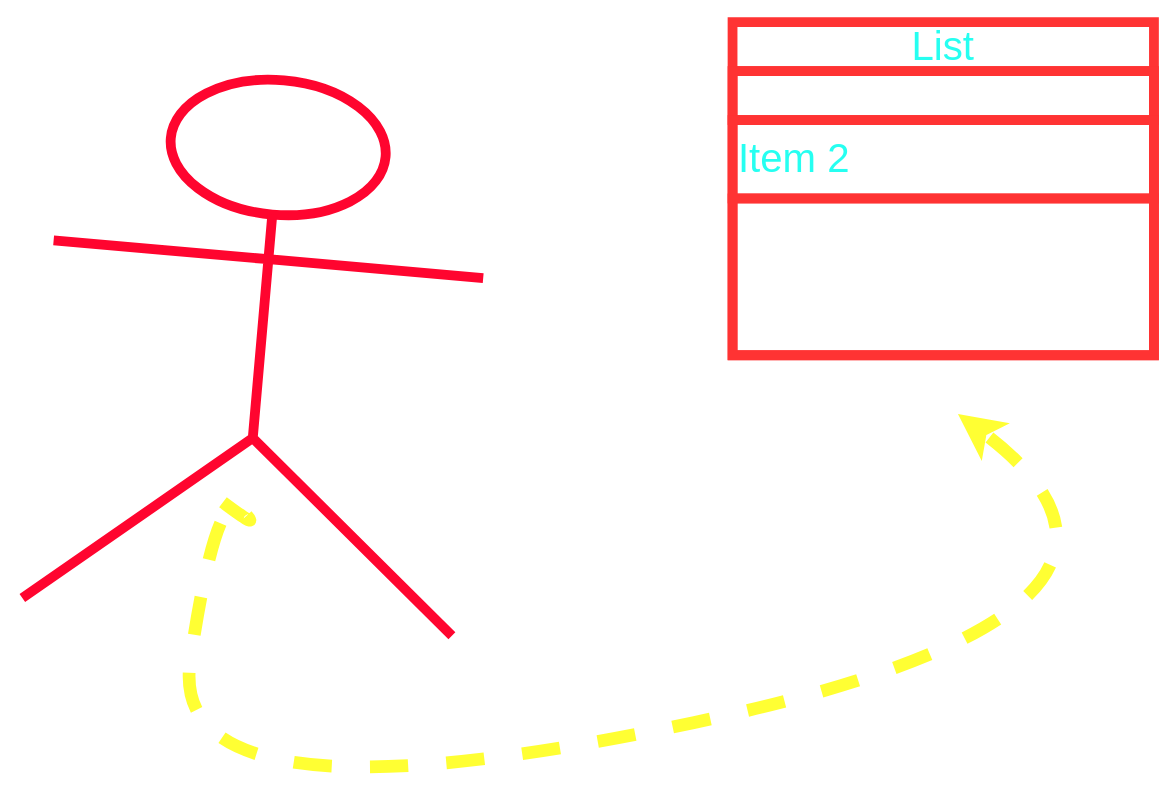
This 1176x790 diagram has some shape labels left out. The centre of each missing label's shape, as x and y in pixels:
Item 1: pixel 942 95
Item 3: pixel 942 276
